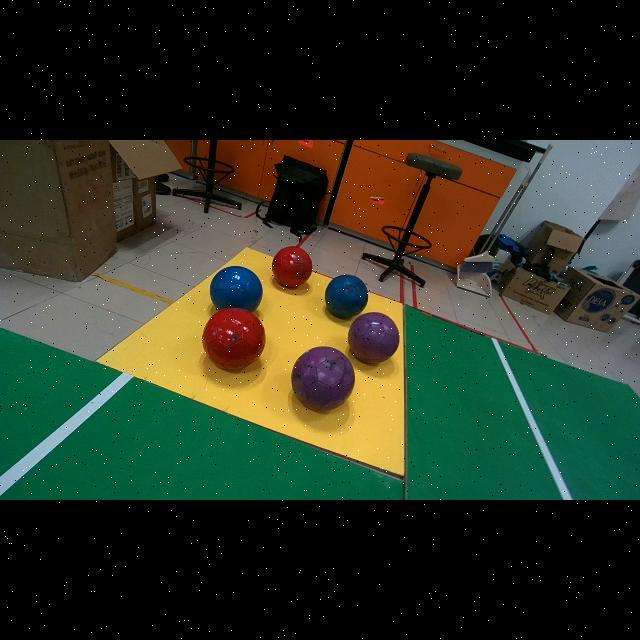B: (209, 266, 262, 311), (325, 275, 368, 319)
P: (292, 346, 355, 410), (348, 312, 399, 364)
R: (203, 309, 266, 370), (272, 247, 312, 288)
